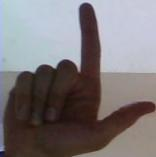L: (6, 1, 156, 157)
